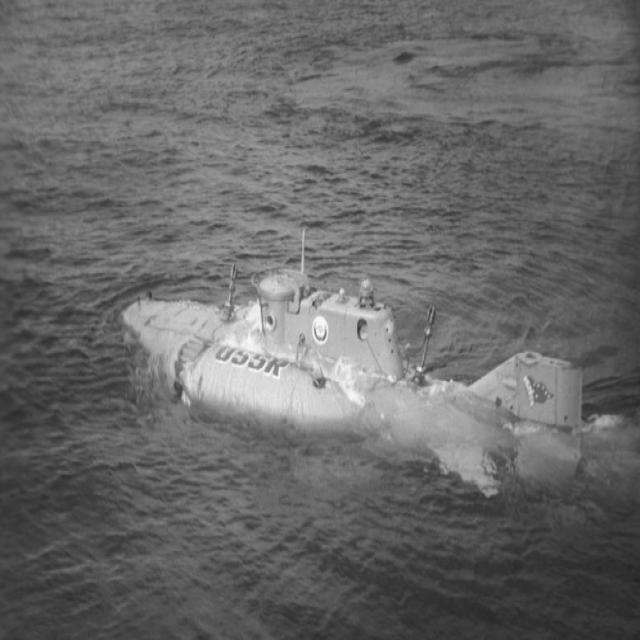submarine: (121, 244, 577, 498)
